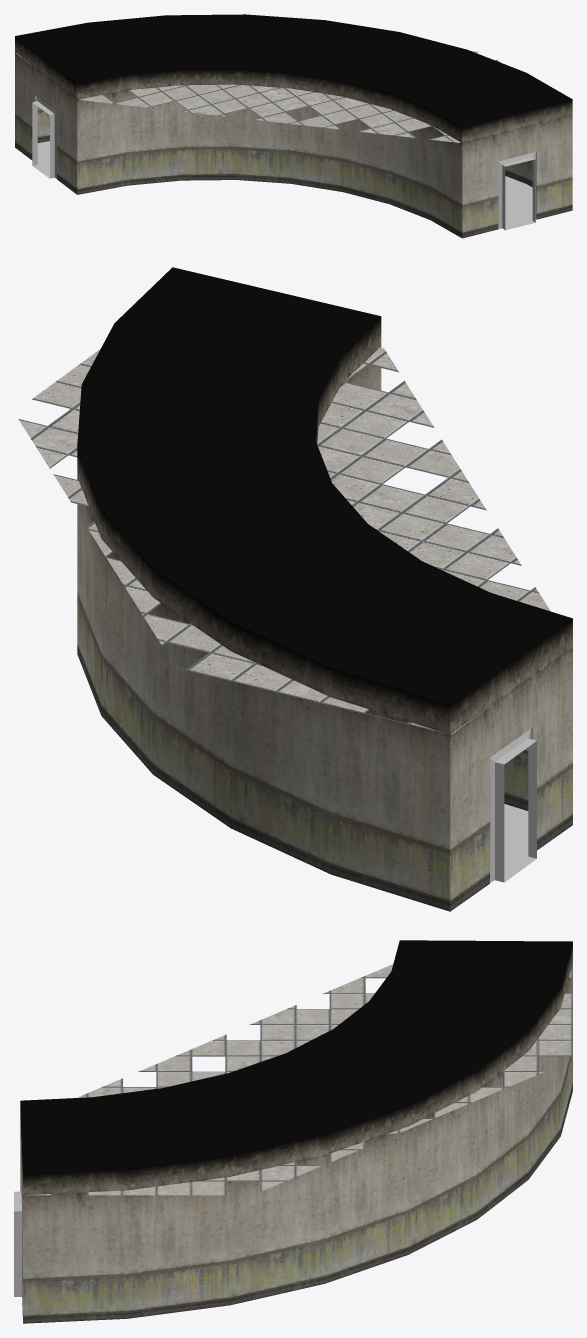
The model's file is HallBend3x3.FBX.
3 views of the same model, one above another, from view 1: azimuth 30°, elevation 25°; view 2: azimuth 150°, elevation 25°; view 3: azimuth 270°, elevation 25° (orthographic). The views are drawn at different scales.
Parts seen in each view (by area): view 1: HallBend3x3; view 2: HallBend3x3; view 3: HallBend3x3.
Boxes of the visible parts, <box> form: HallBend3x3: <box>14,14,572,238</box>; HallBend3x3: <box>18,267,572,911</box>; HallBend3x3: <box>14,940,572,1323</box>.
Size of what is drawn, in the model's own units: 1399 by 413 by 1398.
